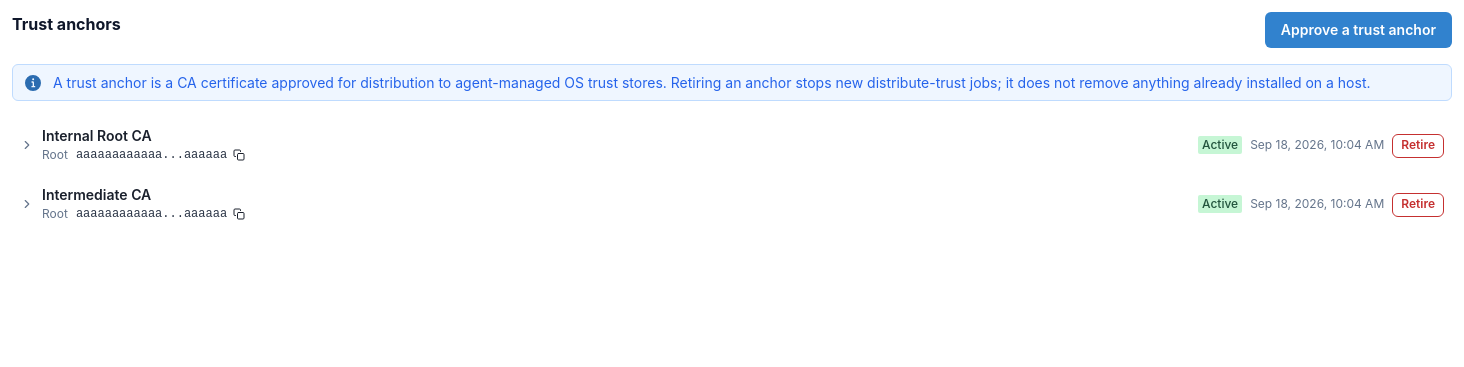
Test: TrustAnchorsPanel › keeps the expanded installation table visible while Refresh is in flight
What coordinates should you click on to do the following:
click the text "Internal Root CA"
I would click on:
 (97, 136)
Its box is 42,127 -> 152,144.
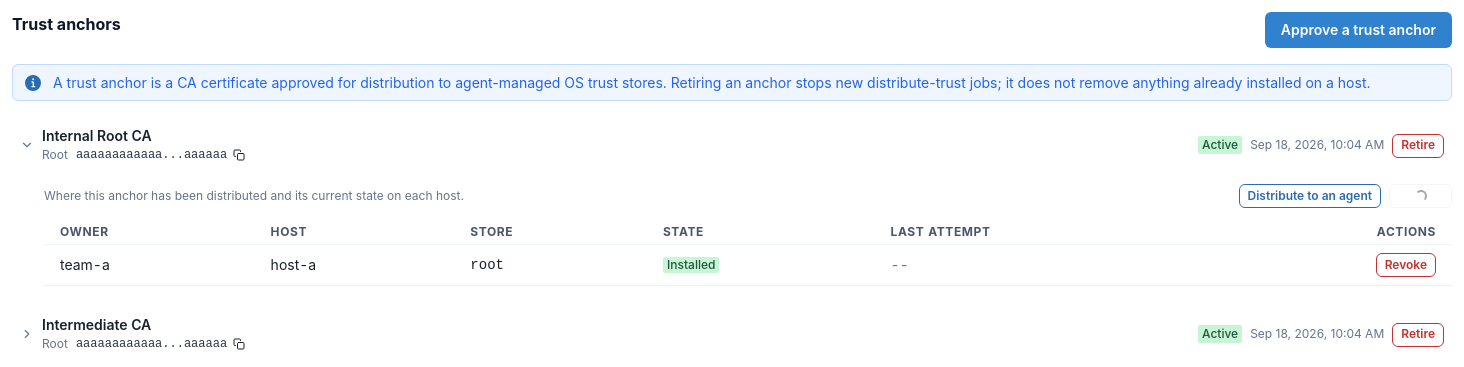
Expected: the text "Intermediate CA" is shown, 42,316 -> 151,333
Expected: the text "team-a" is shown, 60,256 -> 110,273
